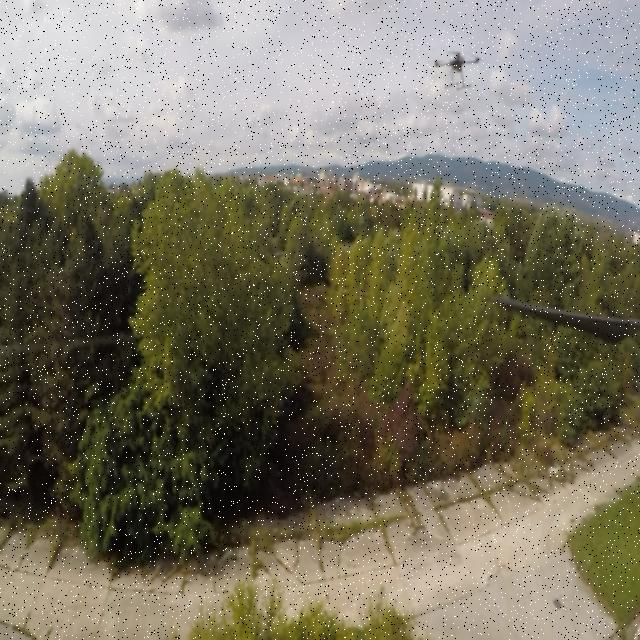UAV: (427, 44, 487, 95)
